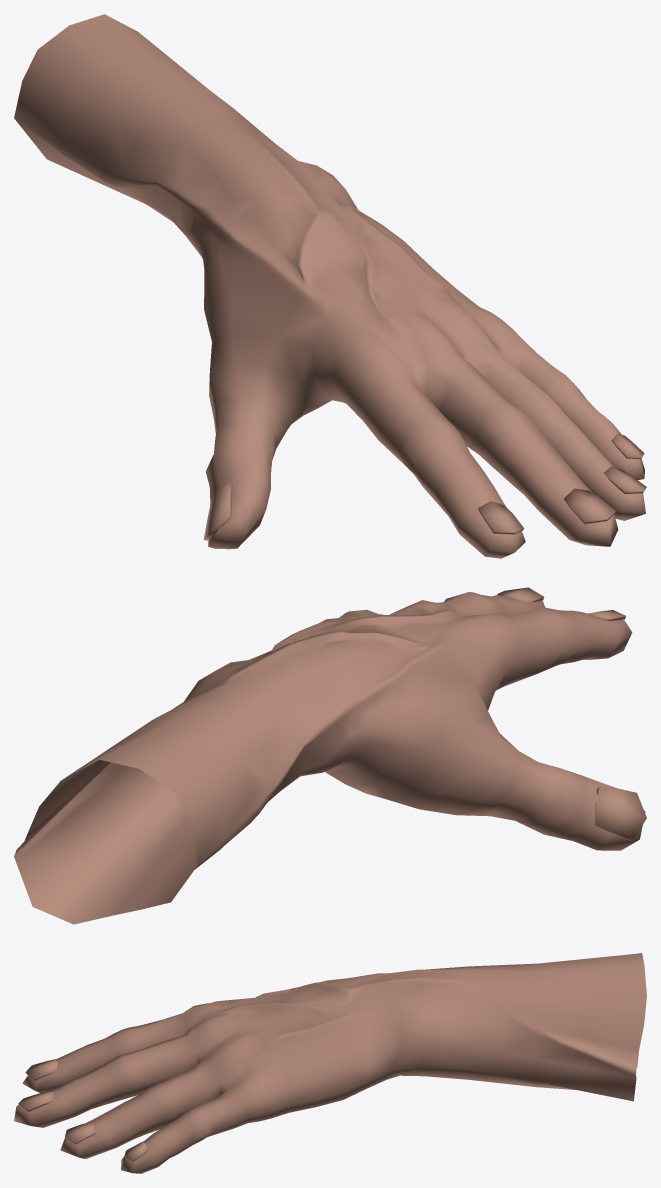
File: 5_2_HandSmoothLeftBack.glb
3 renders of one model, top to bottom at view 1: azimuth 30°, elevation 25°; view 2: azimuth 150°, elevation 25°; view 3: azimuth 270°, elevation 25°, orthographic. The views are drawn at different scales.
Visible parts, largest first — view 1: polySurface920; view 2: polySurface920; view 3: polySurface920.
Part boxes in pixels (bbox=[...]): polySurface920: bbox=[14, 14, 646, 558]; polySurface920: bbox=[14, 587, 646, 924]; polySurface920: bbox=[14, 953, 646, 1173].
Size of the model in its own units: 0.0873 by 0.0587 by 0.1856.
